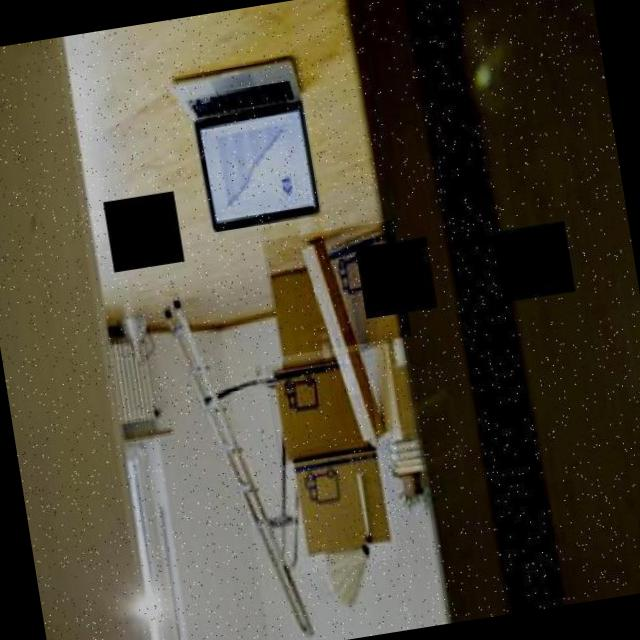box: (262, 220, 412, 358), (283, 446, 398, 573), (264, 349, 381, 466)
